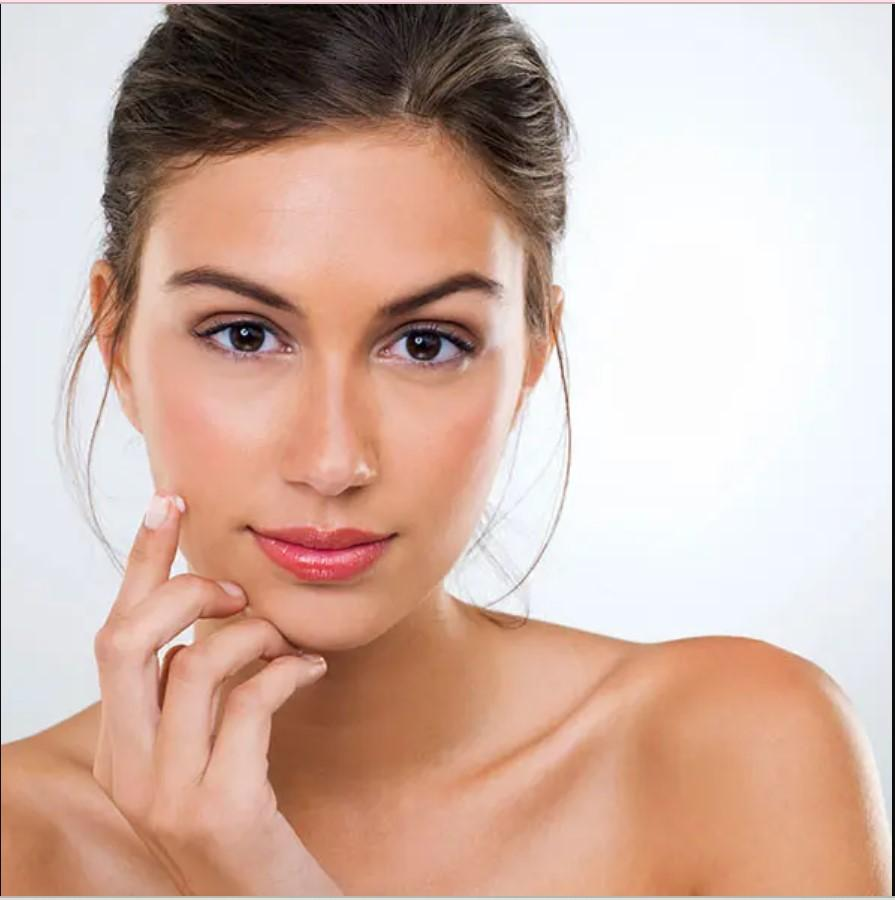Oily-Skin: (228, 168, 470, 258), (158, 380, 305, 493), (400, 408, 505, 530), (305, 332, 352, 490)
